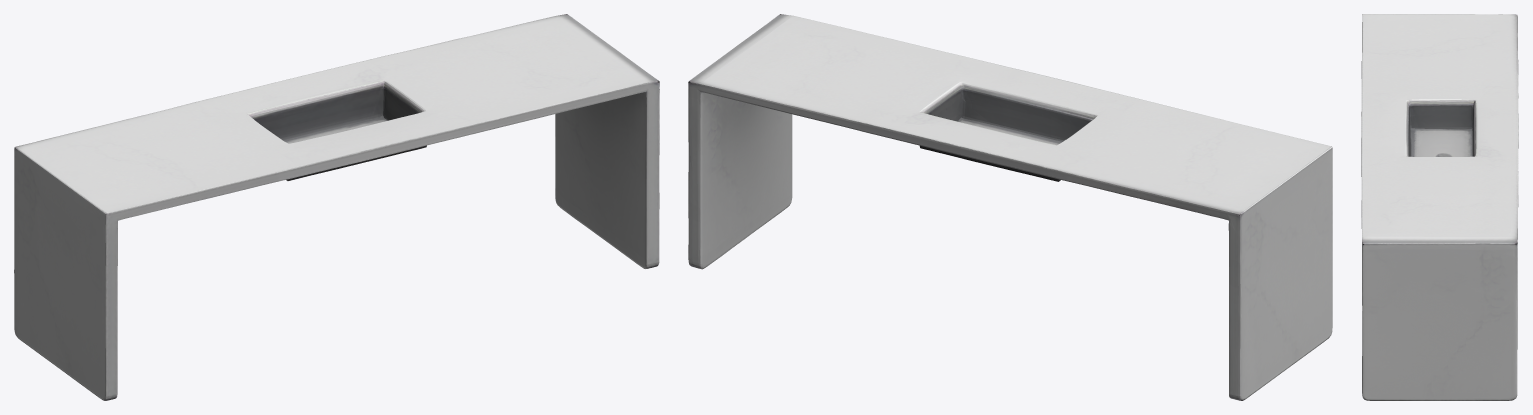
3 renders of one model, left to right at view 1: azimuth 30°, elevation 25°; view 2: azimuth 150°, elevation 25°; view 3: azimuth 270°, elevation 25°, orthographic. The views are drawn at different scales.
Visible parts, largest first — view 1: world; view 2: world; view 3: world.
Boxes of the visible parts, x1,y1,x2,y2 form: world: (14, 14, 659, 400); world: (688, 14, 1332, 400); world: (1361, 14, 1518, 400).
Size of the model in its own units: 1 by 0.3286 by 0.2919.
Materials: 1 (1 with a texture image).
